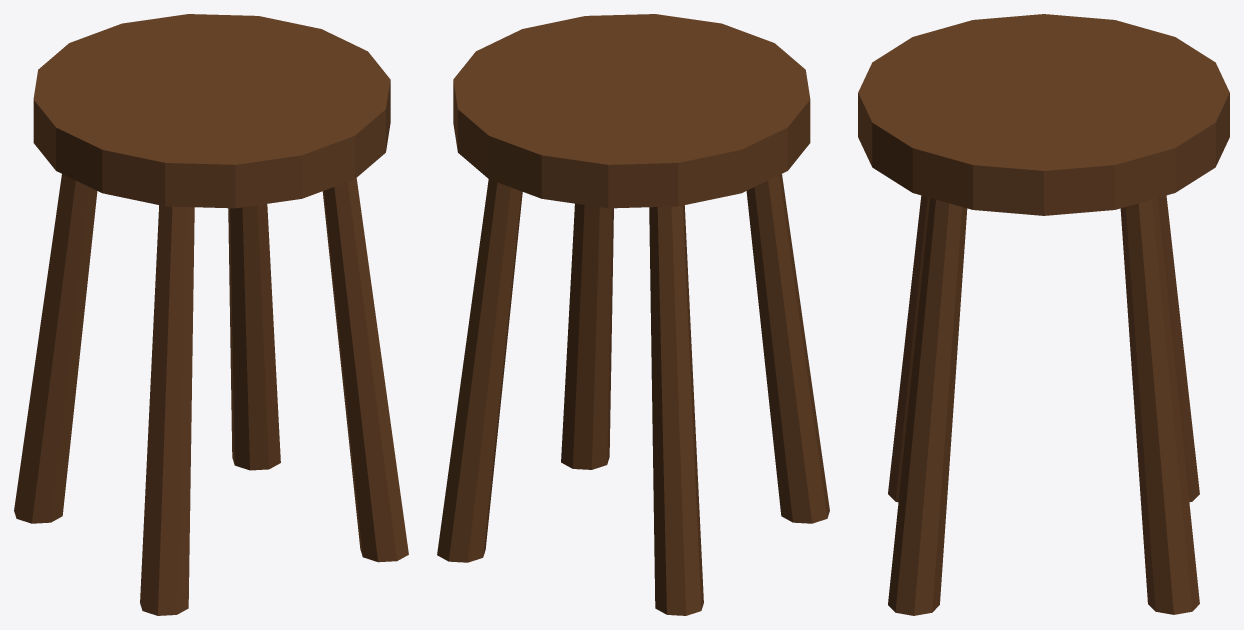
Rendered from stool.glb.
3 views of the same model, side by side, from view 1: azimuth 30°, elevation 25°; view 2: azimuth 150°, elevation 25°; view 3: azimuth 270°, elevation 25° (orthographic). The views are drawn at different scales.
Parts seen in each view (by area): view 1: Stool; view 2: Stool; view 3: Stool.
Boxes of the visible parts, left/top/right/bottom form: Stool: left=14, top=14, right=408, bottom=615; Stool: left=437, top=14, right=829, bottom=615; Stool: left=858, top=14, right=1229, bottom=615.
Size of the model in its own units: 2 by 2.72 by 2.
